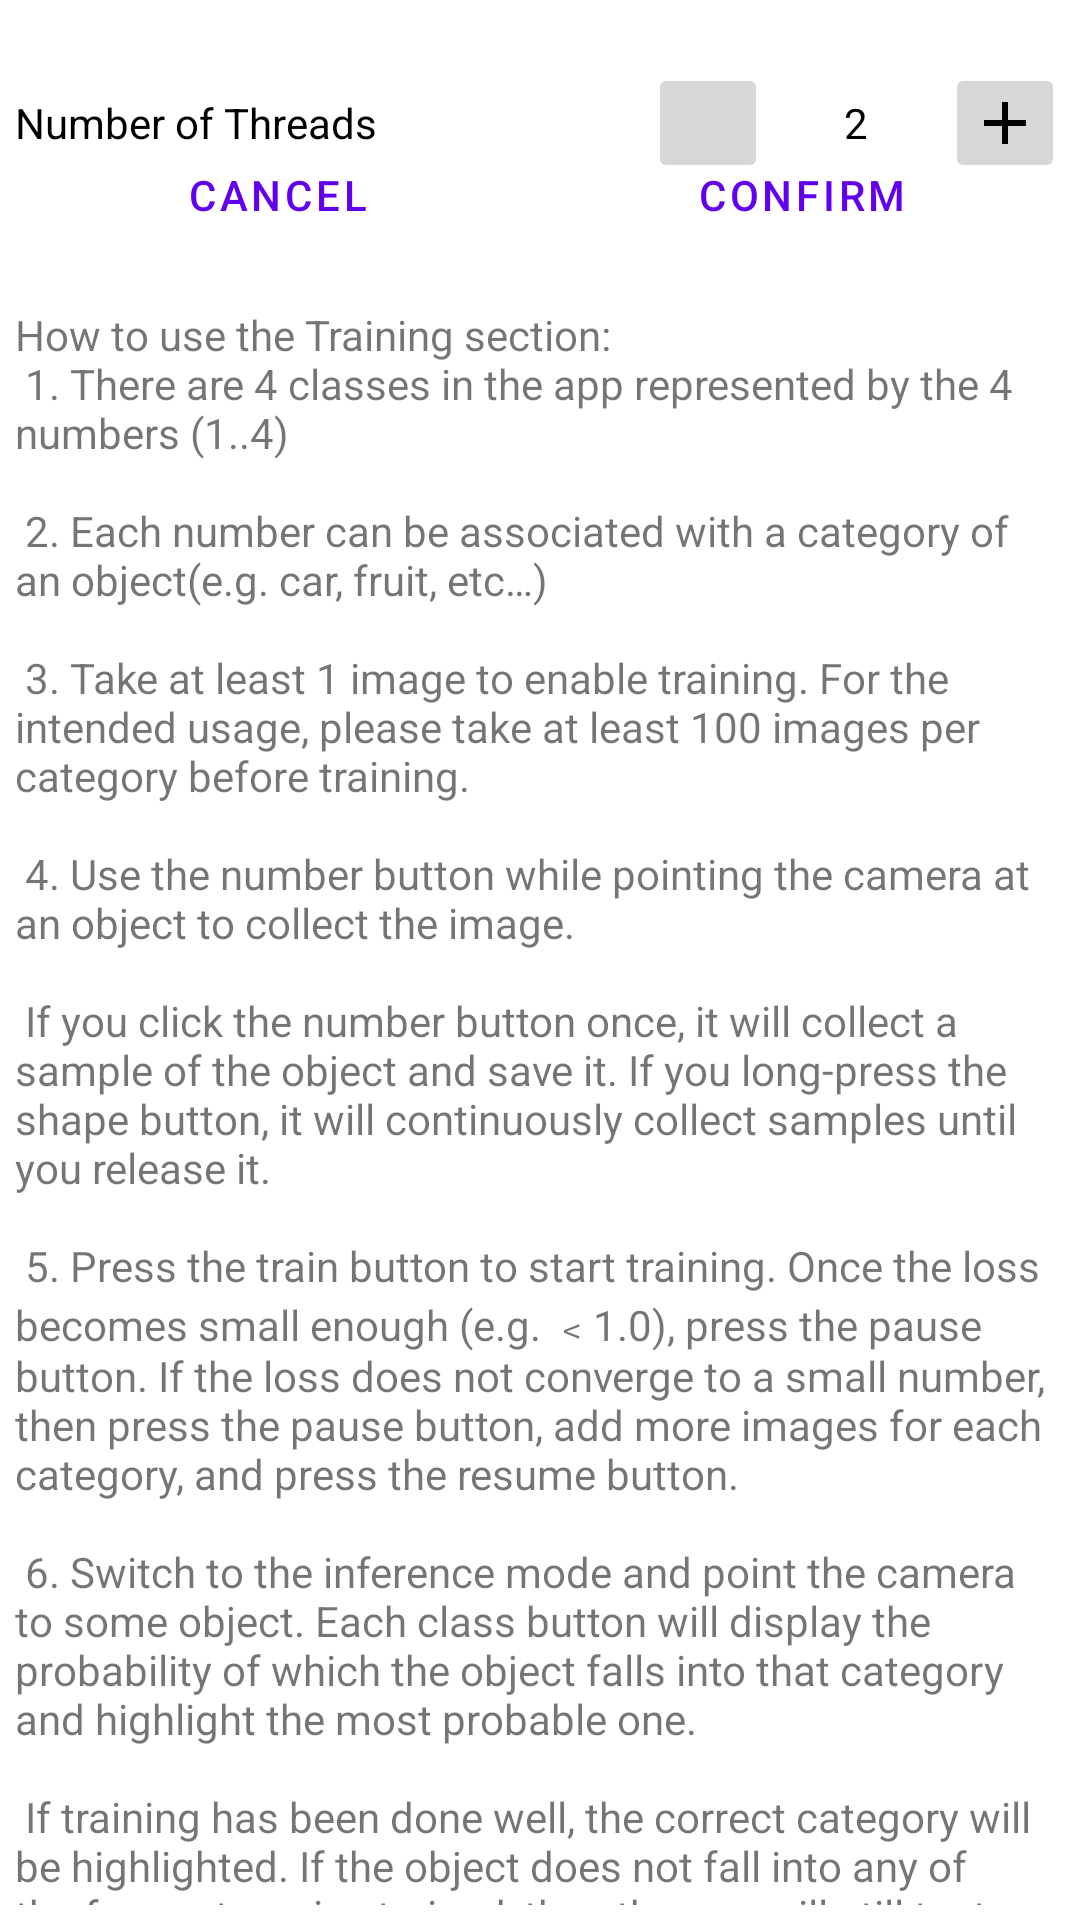

Icon click points for this 1080*1920 phone screenshot, format (x,y):
Increase the number of threads used: (1005,123)
